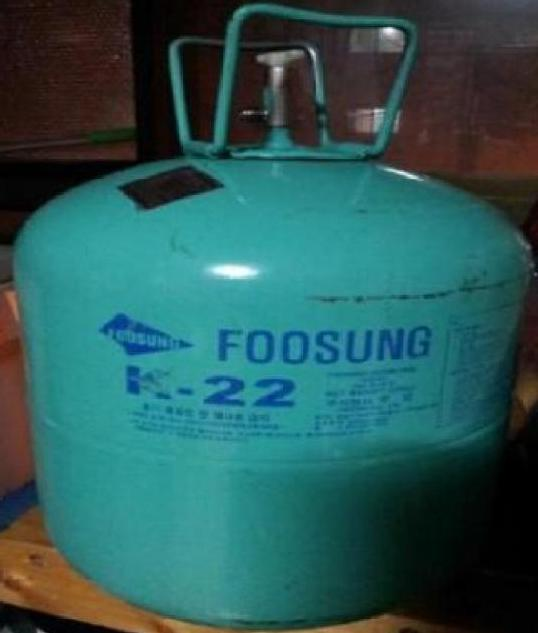cylinder: (1, 0, 538, 633)
